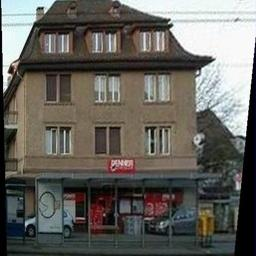building: (16, 0, 200, 234)
